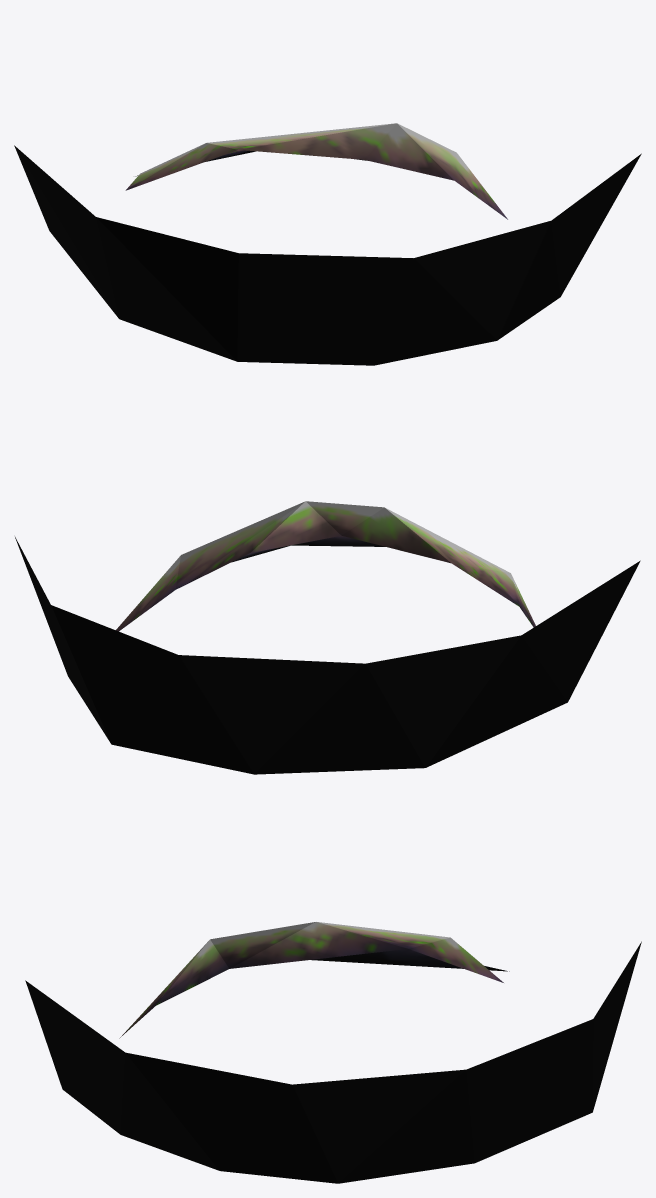
File: cave_hole.glb
The picture shows the model from 3 angles, top to bottom: view 1: azimuth 30°, elevation 25°; view 2: azimuth 150°, elevation 25°; view 3: azimuth 270°, elevation 25°; orthographic projection. The views are drawn at different scales.
Visible parts, largest first — view 1: RockMask, Rock; view 2: RockMask, Rock; view 3: RockMask, Rock.
Boxes of the visible parts, x1,y1,x2,y2 form: RockMask: [14, 145, 641, 365]; Rock: [125, 123, 507, 219]; RockMask: [15, 537, 640, 774]; Rock: [116, 501, 535, 631]; RockMask: [25, 941, 641, 1183]; Rock: [119, 922, 509, 1038].
Bounding box in the file's own units: 4.43 × 1.11 × 4.47.
2 materials, 1 textured.
